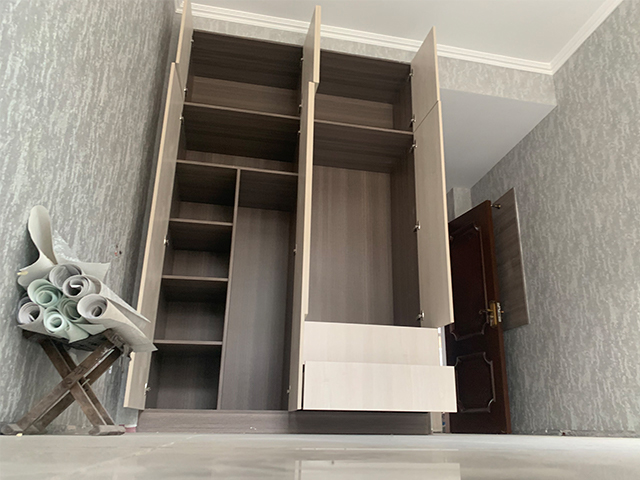cabinet: (147, 315, 450, 434)
stool: (1, 328, 136, 437)
